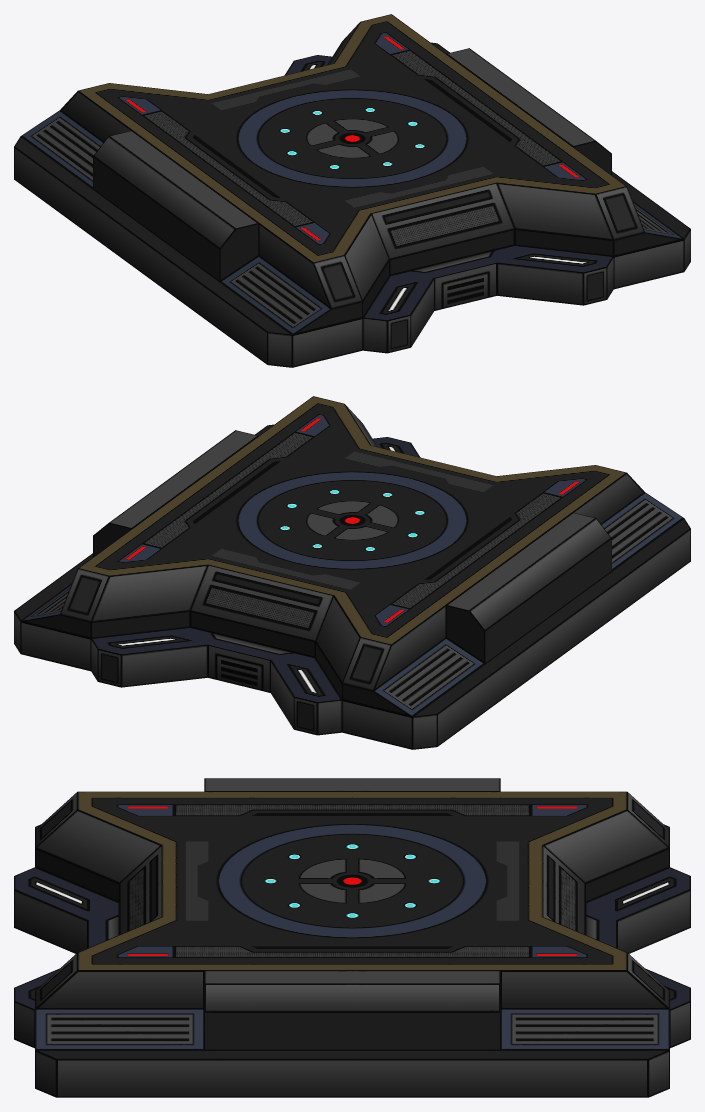
File: cons_platform_002.fbx
3 views of the same model, one above another, from view 1: azimuth 30°, elevation 25°; view 2: azimuth 150°, elevation 25°; view 3: azimuth 270°, elevation 25° (orthographic). The views are drawn at different scales.
Parts seen in each view (by area): view 1: main; view 2: main; view 3: main.
Boxes of the visible parts, x1,y1,x2,y2 form: main: [14, 14, 690, 367]; main: [14, 396, 690, 749]; main: [14, 778, 690, 1097].
Size of the model in its own units: 270 by 50 by 320.
